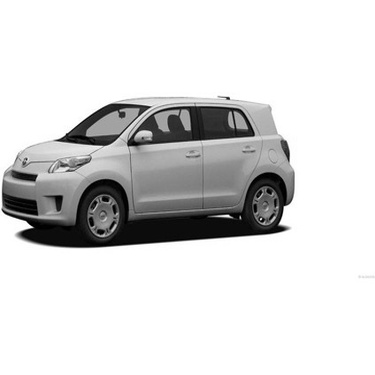car: (1, 89, 297, 240)
